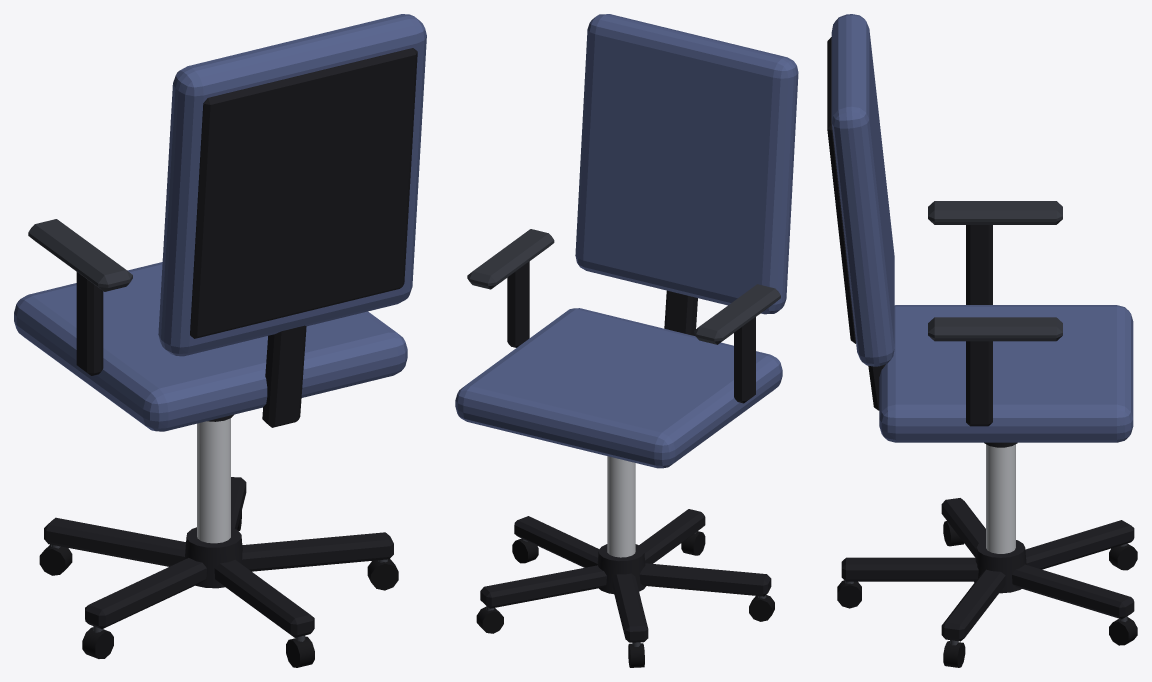
File: cadeira_escritorio.obj
3 views of the same model, side by side, from view 1: azimuth 30°, elevation 25°; view 2: azimuth 150°, elevation 25°; view 3: azimuth 270°, elevation 25° (orthographic). The views are drawn at different scales.
Parts seen in each view (by area): view 1: cadeira_escritorio; view 2: cadeira_escritorio; view 3: cadeira_escritorio.
Boxes of the visible parts, x1=… form: cadeira_escritorio: x1=14, y1=14, x2=426, y2=667; cadeira_escritorio: x1=455, y1=14, x2=798, y2=667; cadeira_escritorio: x1=827, y1=14, x2=1137, y2=667.
Size of the model in its own units: 0.5847 by 1.11 by 0.5748.
